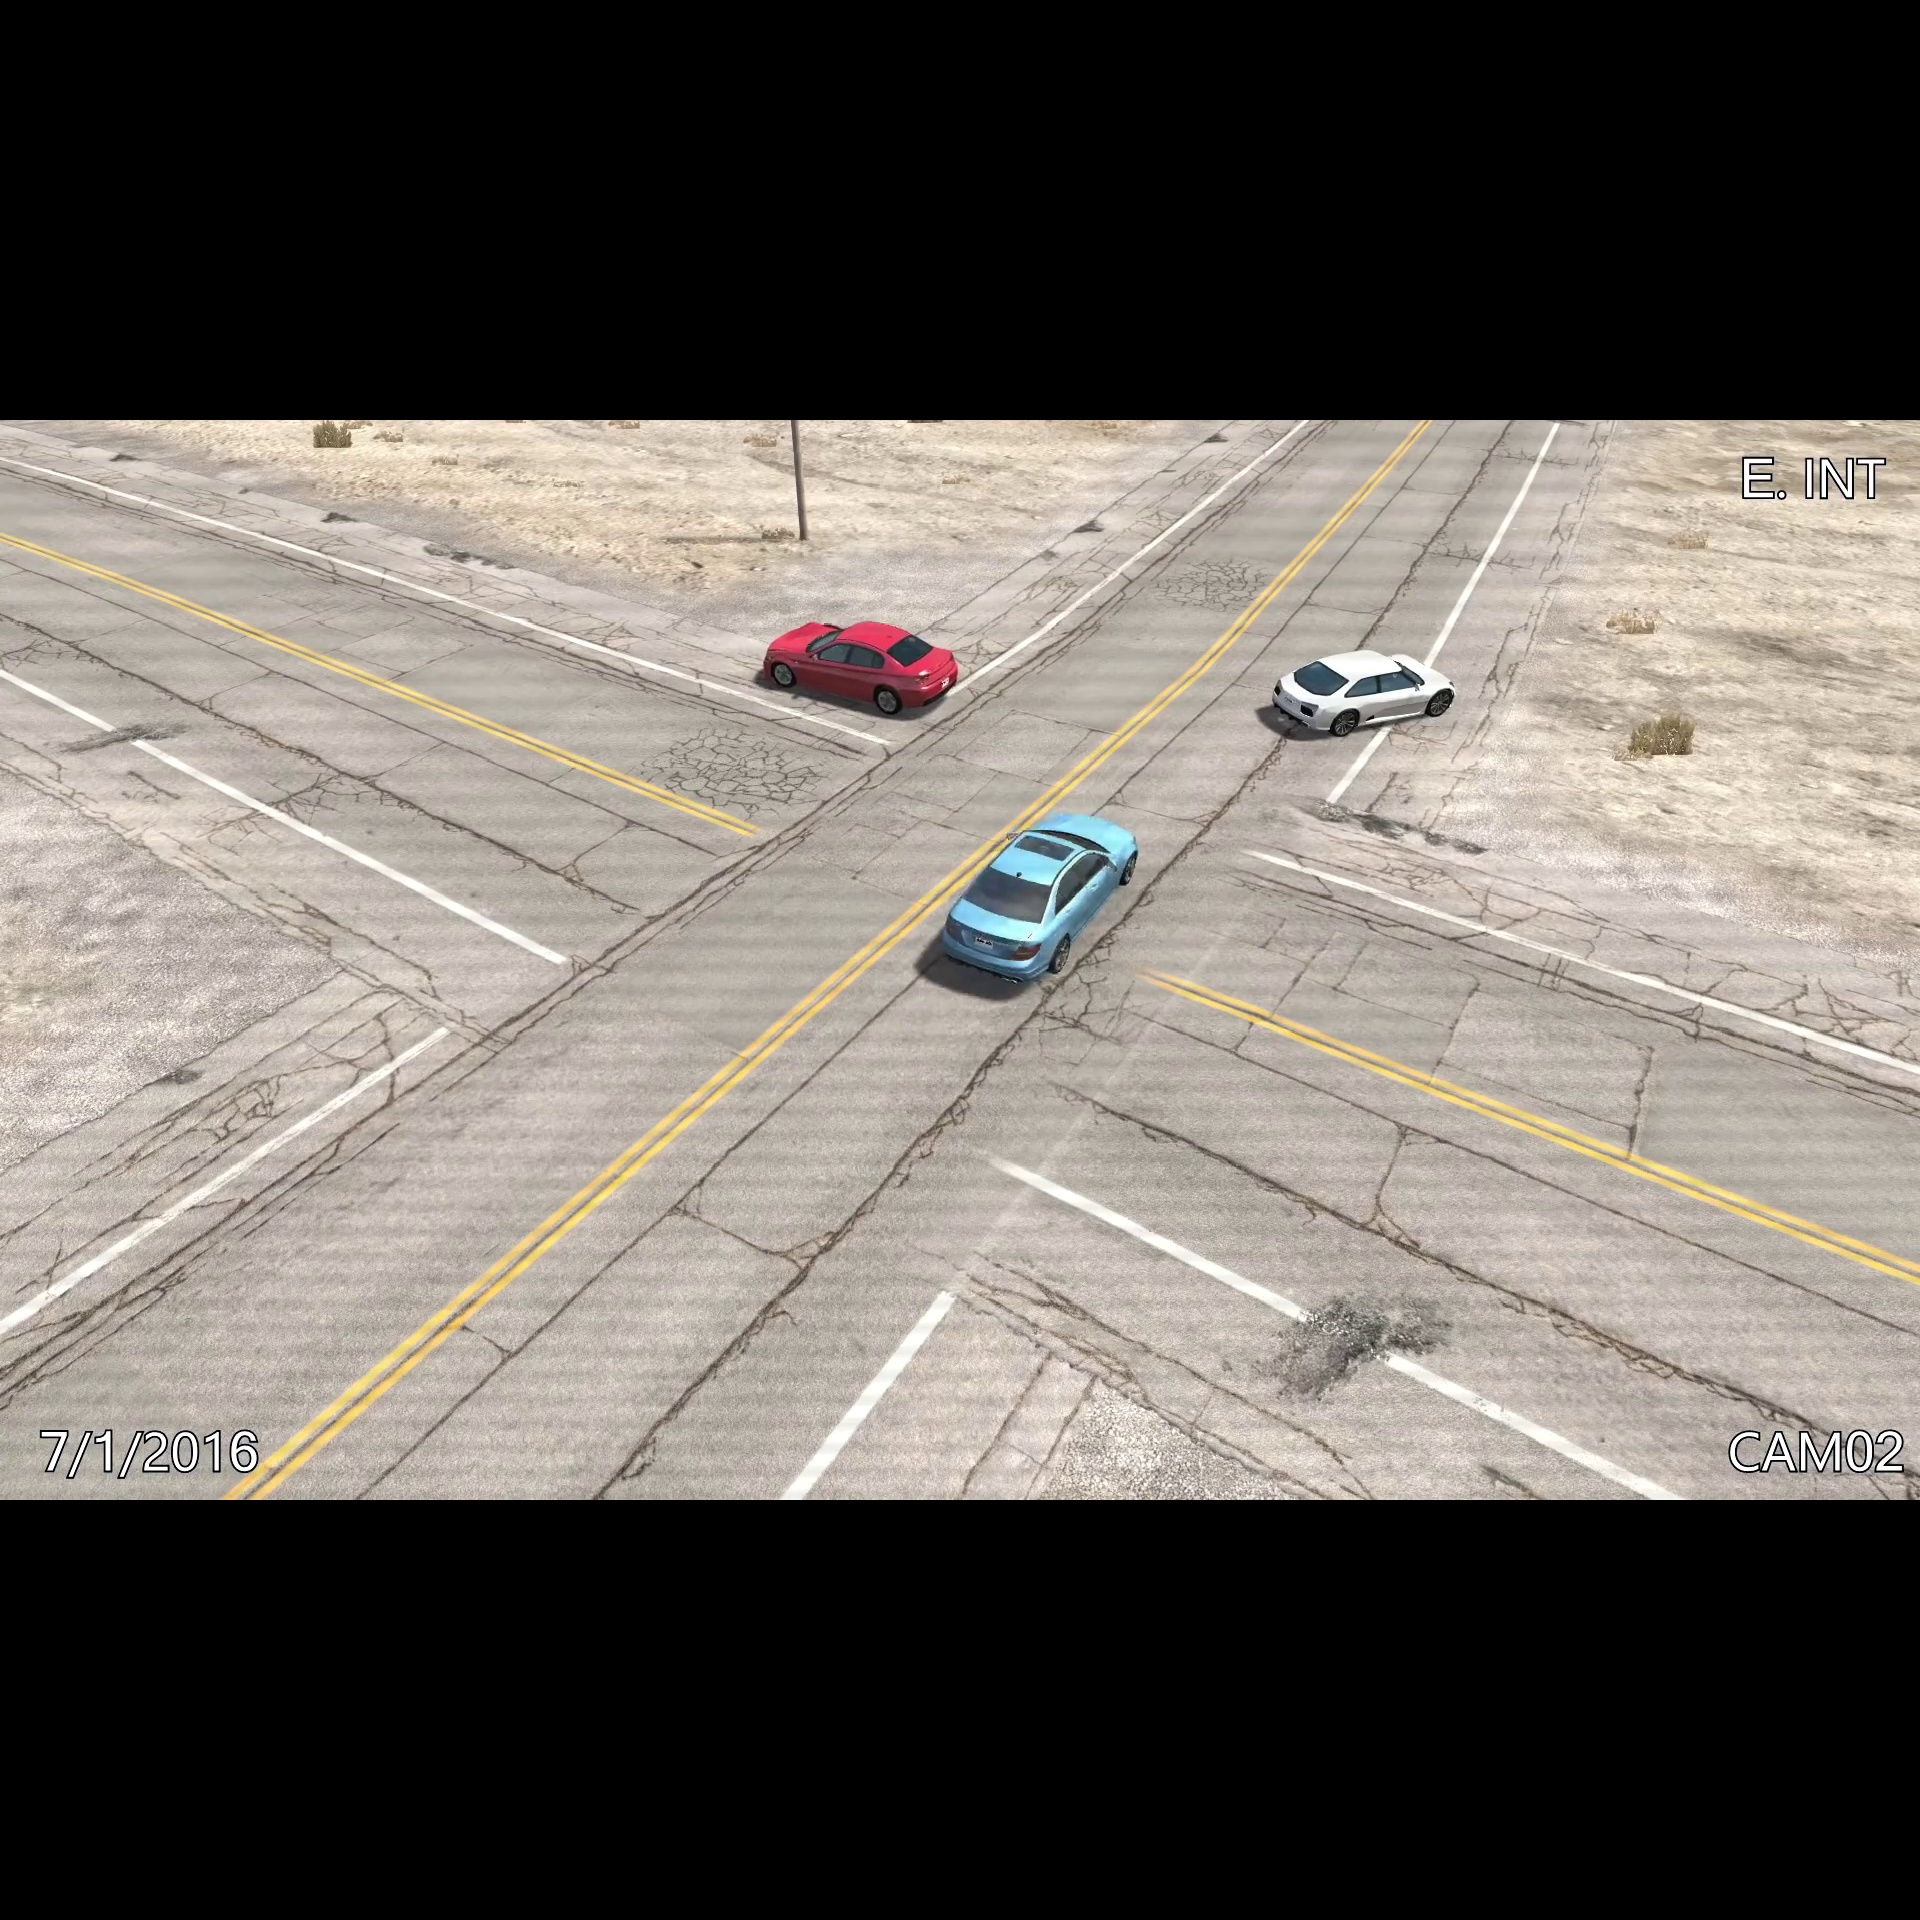vehicle: (935, 805, 1146, 990), (758, 614, 965, 721), (1266, 642, 1461, 744)
